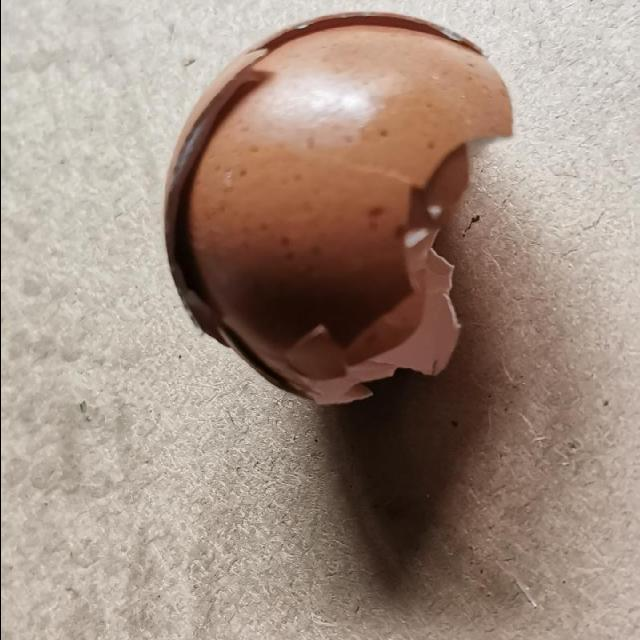egg shell: (160, 12, 520, 410)
